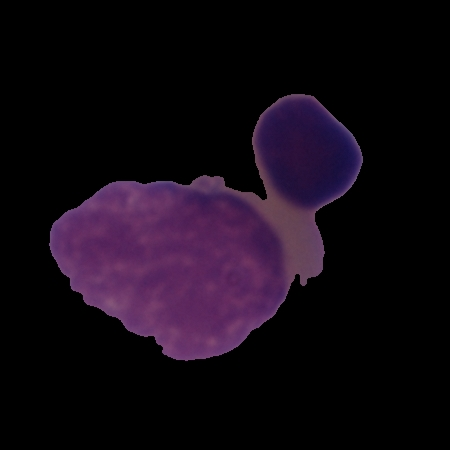HEM: (45, 89, 368, 363)
